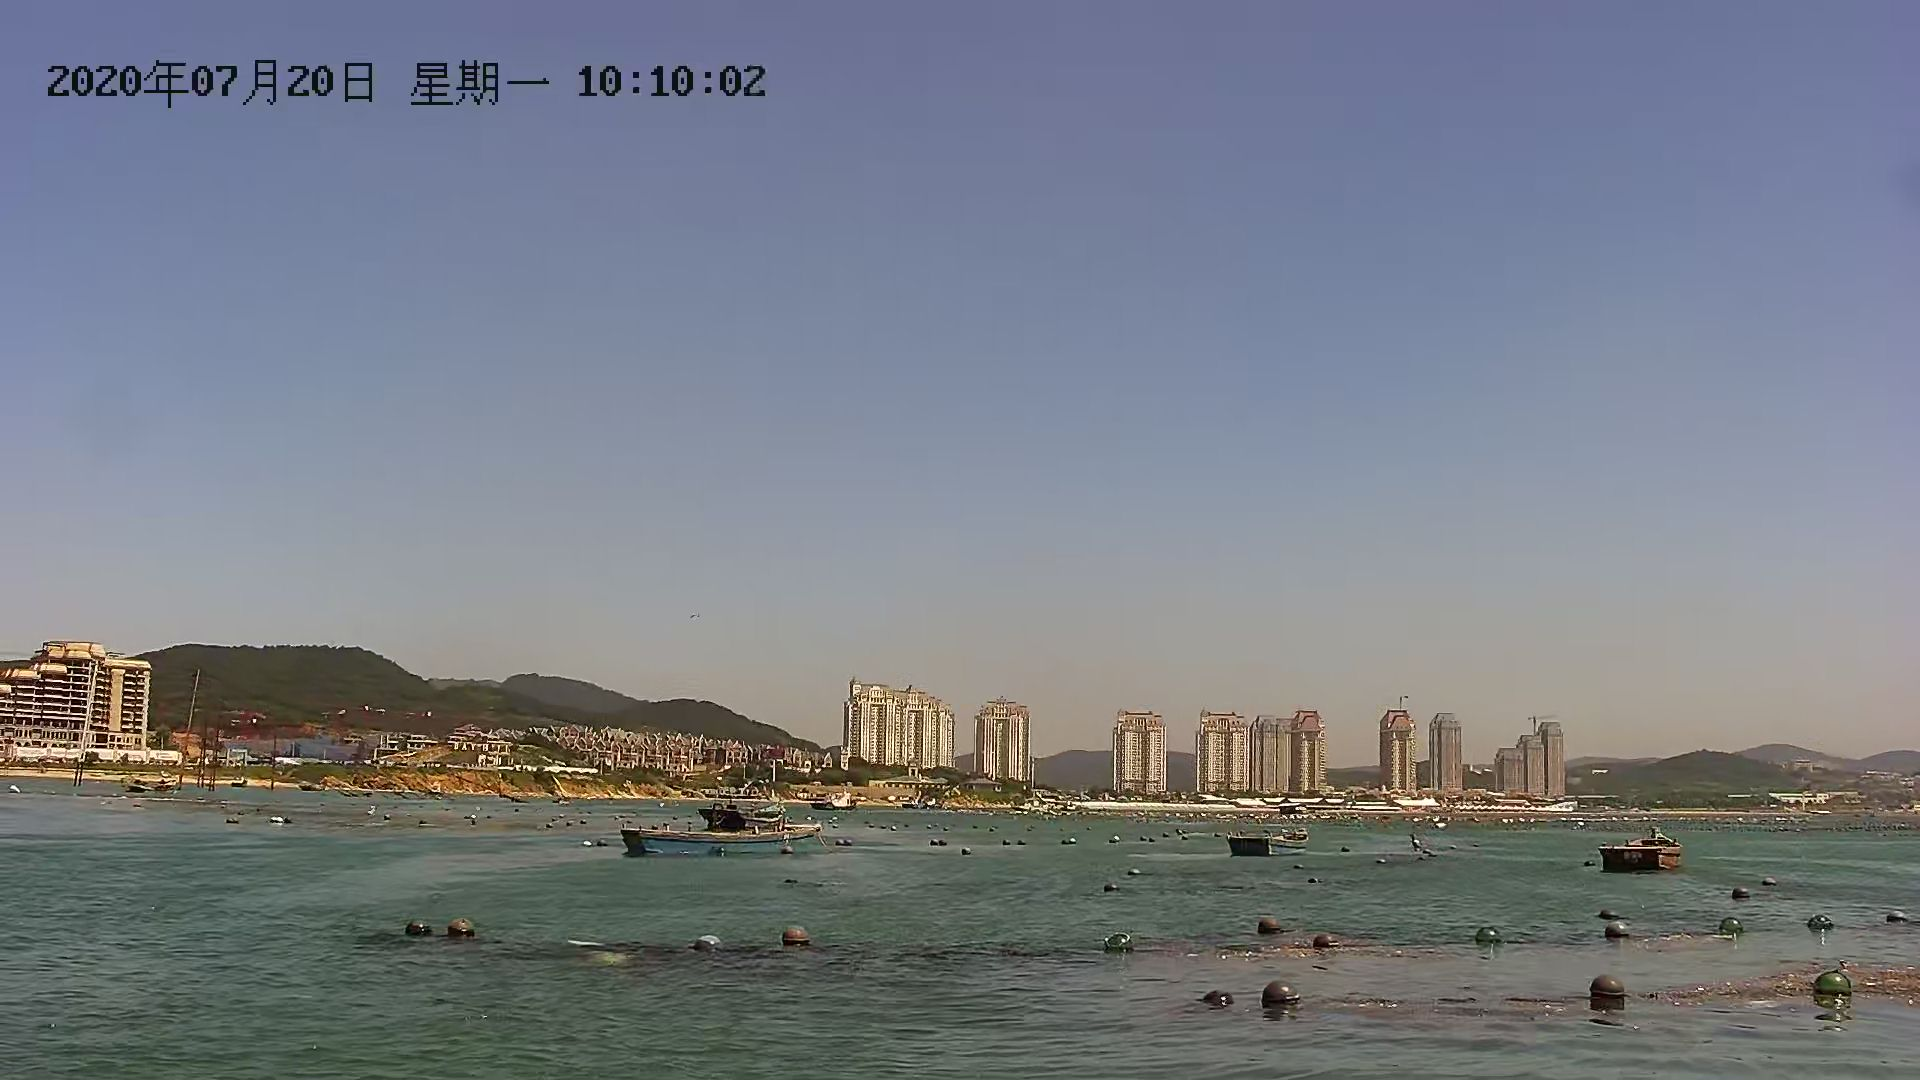ball: (1803, 963, 1865, 1007), (1573, 969, 1625, 1007), (775, 916, 818, 959), (1261, 982, 1309, 1011), (1199, 980, 1240, 1011), (444, 915, 487, 945), (1100, 928, 1137, 956), (1807, 910, 1838, 942), (1476, 920, 1509, 949), (1716, 916, 1753, 940), (1601, 923, 1636, 945), (1254, 916, 1284, 942), (1307, 935, 1338, 956), (401, 920, 433, 942)
boat: (624, 814, 831, 864), (1593, 822, 1692, 878), (1220, 818, 1320, 862)
